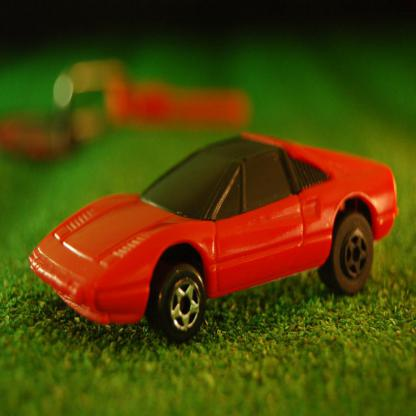Car: (27, 131, 400, 344)
